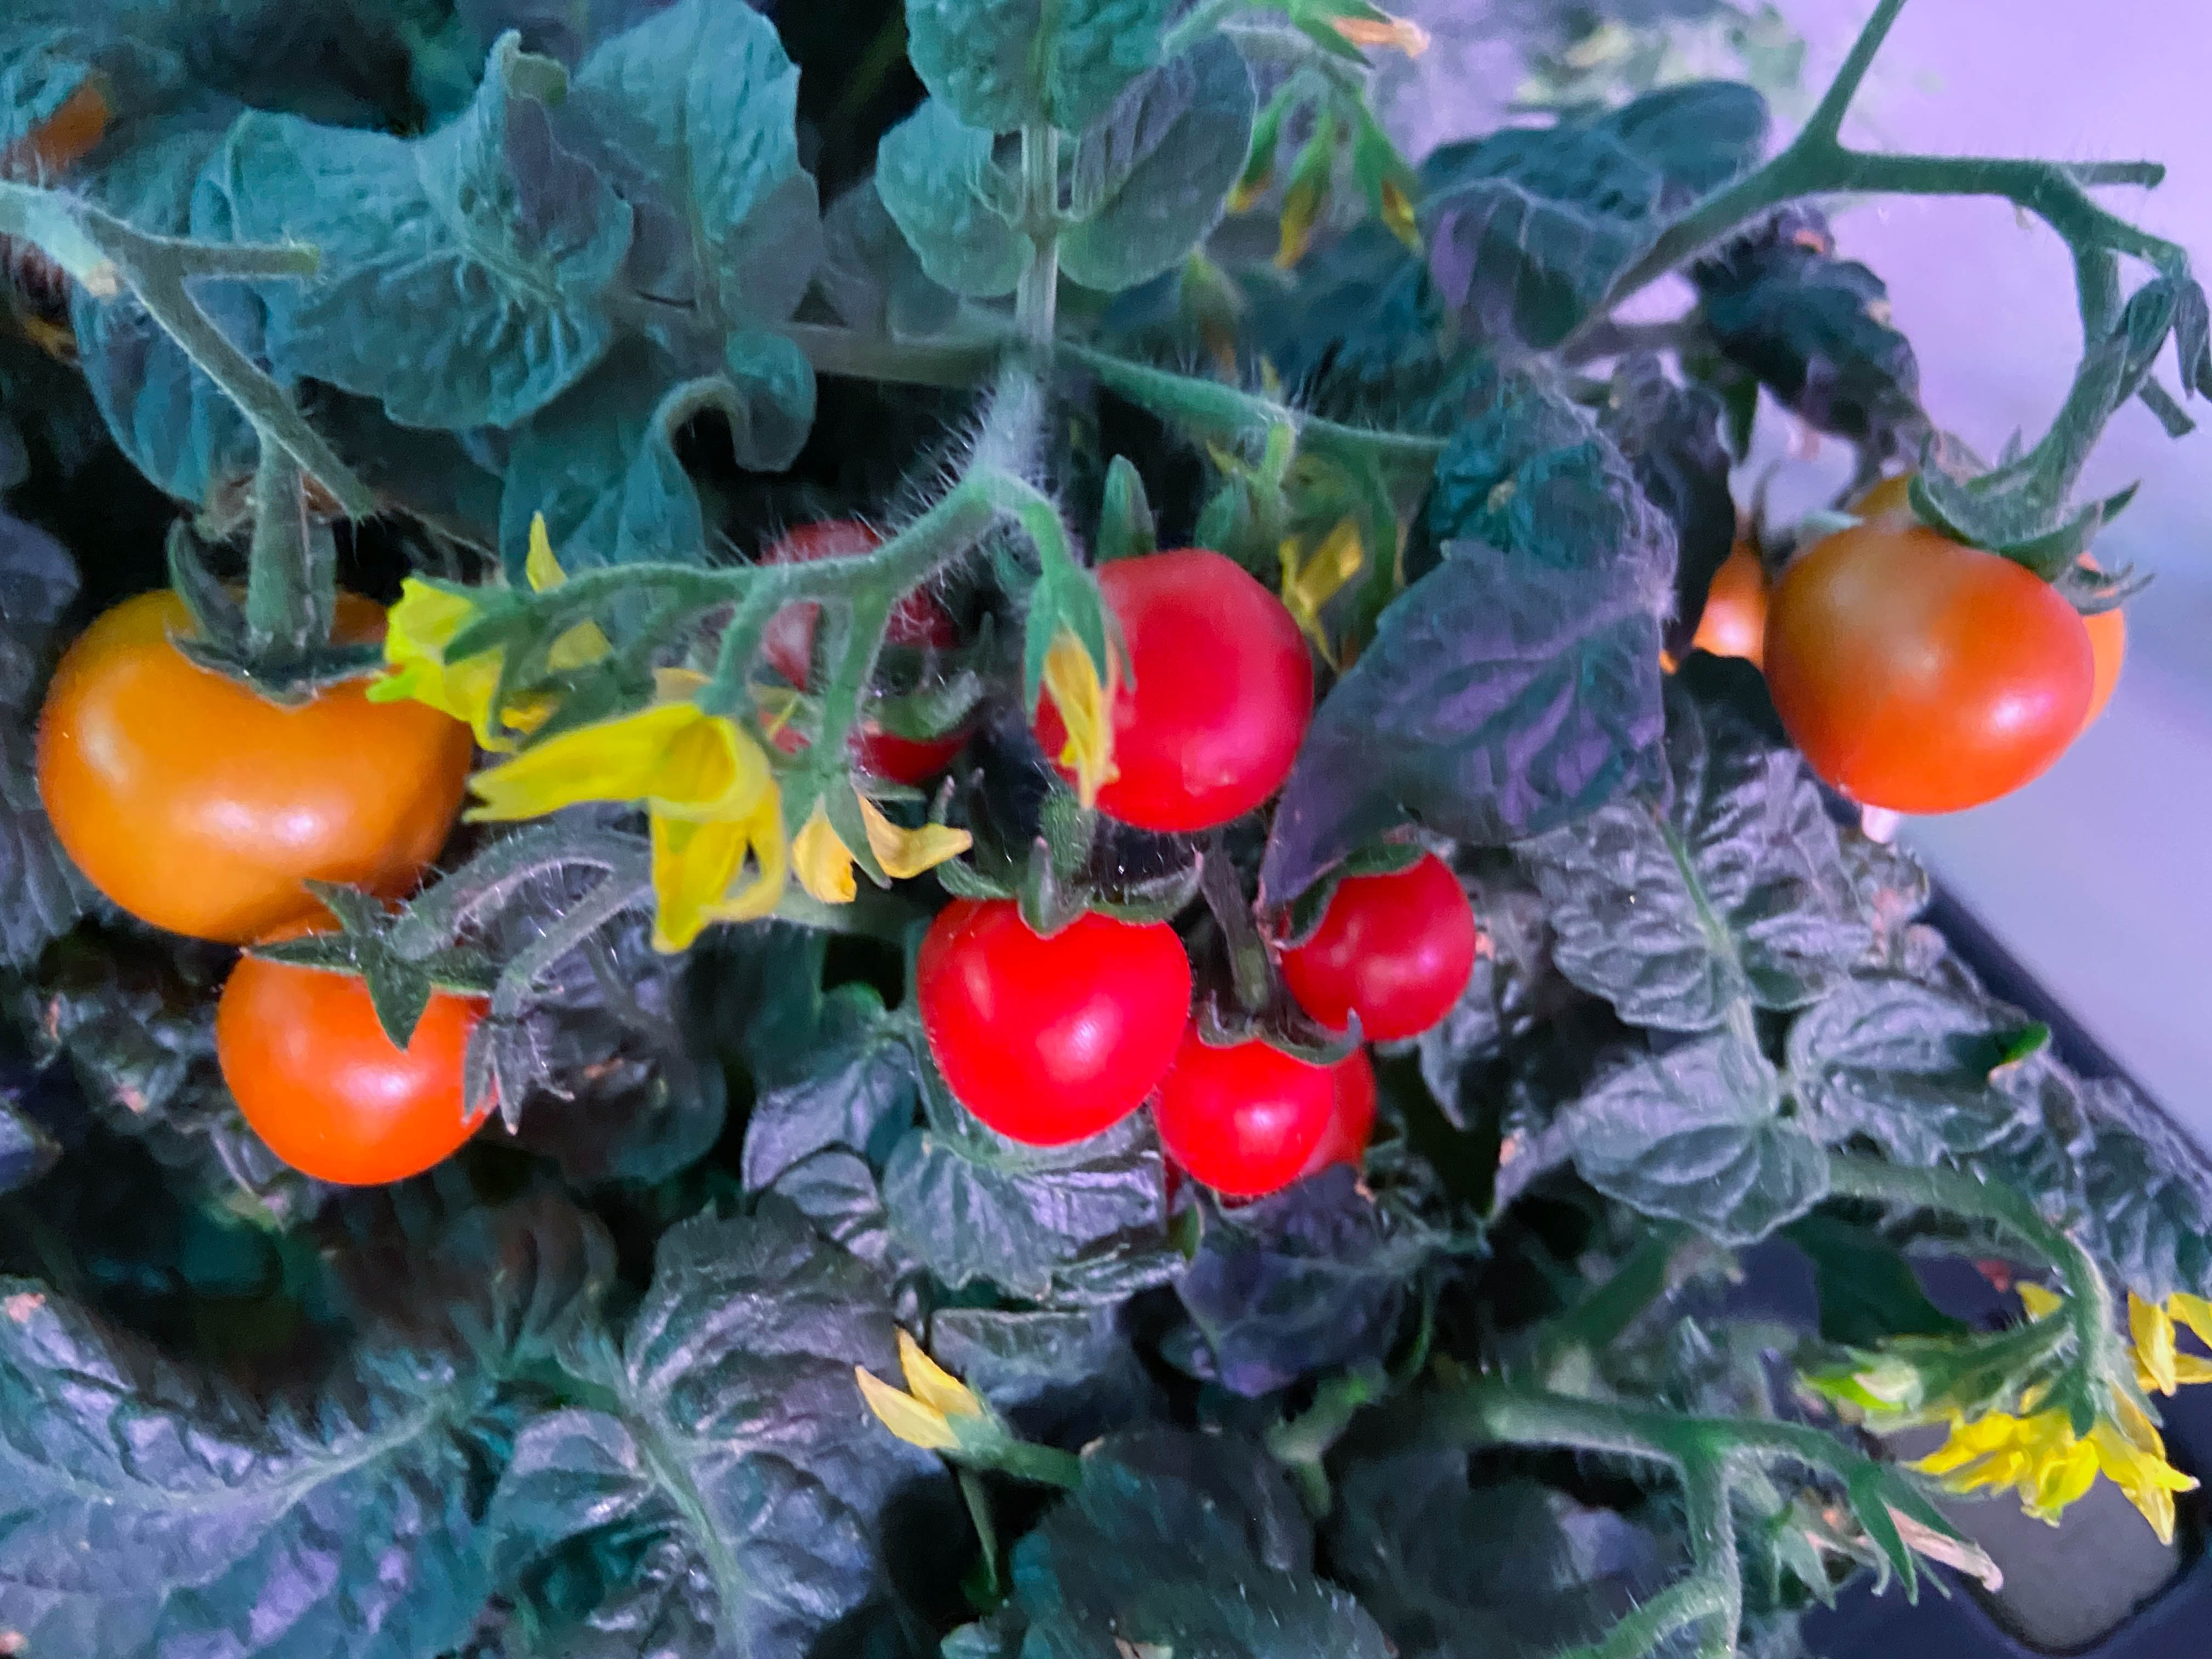red: (35, 568, 463, 939), (1763, 498, 2107, 816), (1029, 547, 1315, 836), (212, 920, 503, 1188), (737, 500, 986, 795), (916, 887, 1193, 1143), (1841, 484, 2125, 669), (1271, 849, 1480, 1042), (1155, 1028, 1341, 1197), (10, 37, 127, 244), (1684, 547, 1778, 666), (1318, 1044, 1369, 1155)
